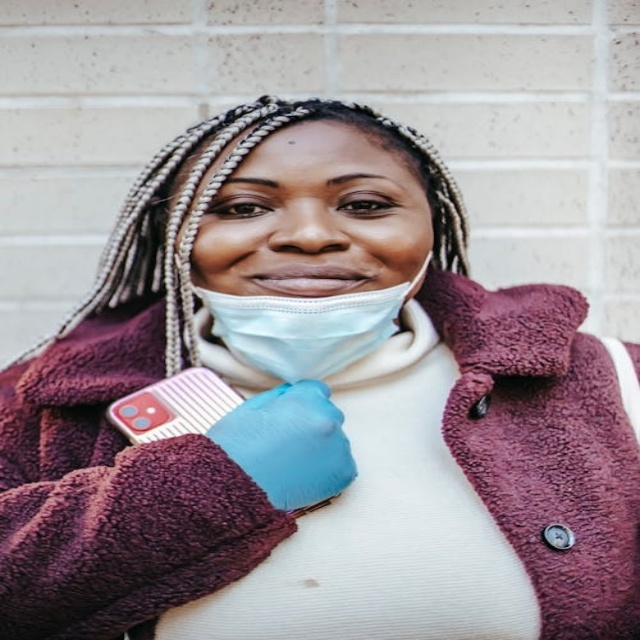Guantes: (207, 379, 356, 512)
Sin_gafas: (198, 166, 417, 222)
Sin_mascara: (211, 228, 420, 295)
